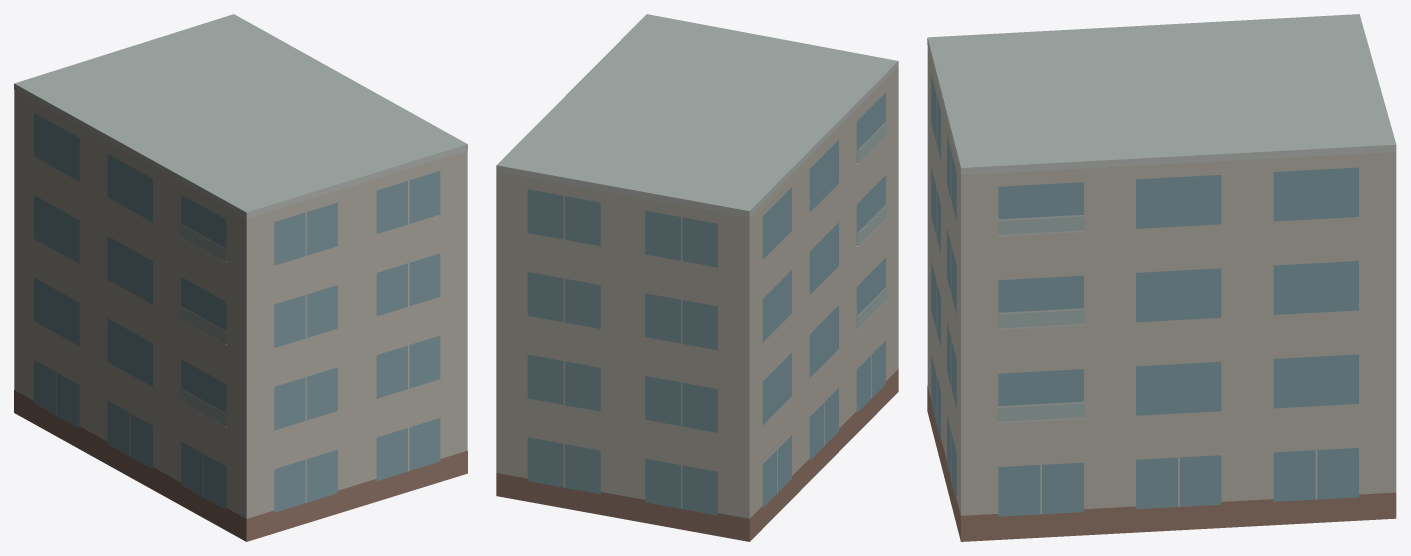
The model's file is survey-upis-32653046.glb.
3 views of the same model, side by side, from view 1: azimuth 30°, elevation 25°; view 2: azimuth 150°, elevation 25°; view 3: azimuth 270°, elevation 25° (orthographic). The views are drawn at different scales.
Visible parts, largest first — view 1: survey-upis-32653046.tmp; view 2: survey-upis-32653046.tmp; view 3: survey-upis-32653046.tmp.
Part boxes in pixels (<box>): survey-upis-32653046.tmp: <box>14,14,467,541</box>; survey-upis-32653046.tmp: <box>496,14,898,541</box>; survey-upis-32653046.tmp: <box>927,14,1396,541</box>.
Size of the model in its own units: 11.32 by 12.8 by 14.56.
